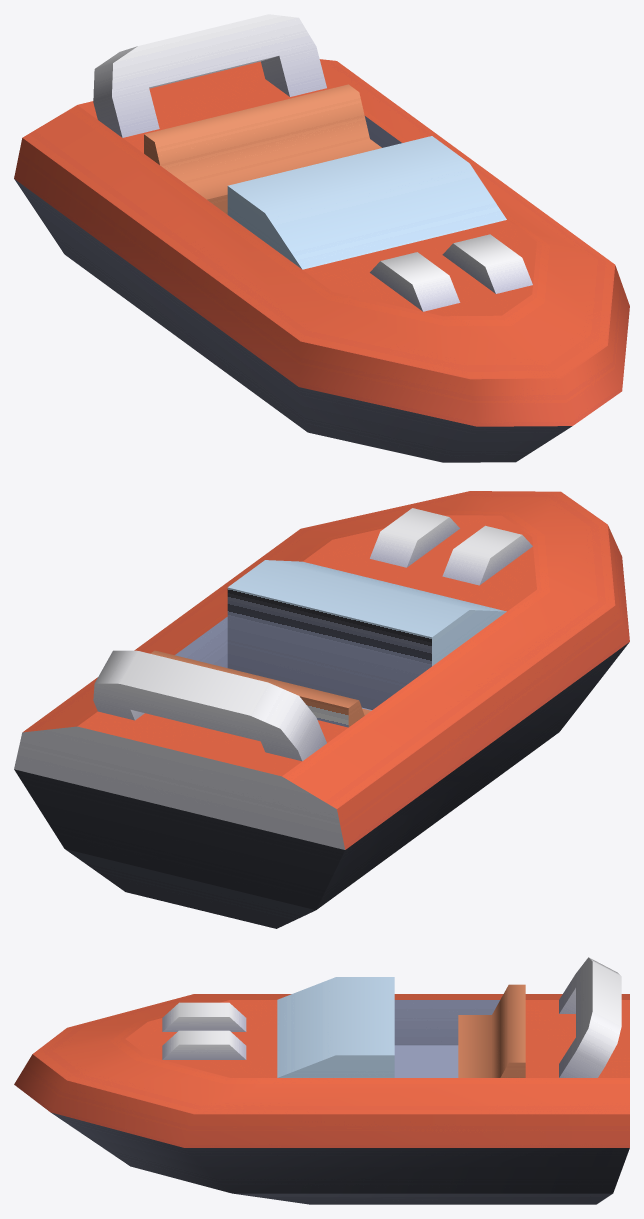
File: boat-speed-h.glb
The picture shows the model from 3 angles, top to bottom: view 1: azimuth 30°, elevation 25°; view 2: azimuth 150°, elevation 25°; view 3: azimuth 270°, elevation 25°; orthographic projection. The views are drawn at different scales.
Parts seen in each view (by area): view 1: boat-speed-h; view 2: boat-speed-h; view 3: boat-speed-h.
Boxes of the visible parts, box(x1,y1,x2,y2) form: boat-speed-h: box(14, 14, 629, 462); boat-speed-h: box(14, 491, 629, 928); boat-speed-h: box(14, 957, 629, 1204).
Bounding box in the file's own units: 1.78 × 1.25 × 3.67.
Materials: 1 (1 with a texture image).
